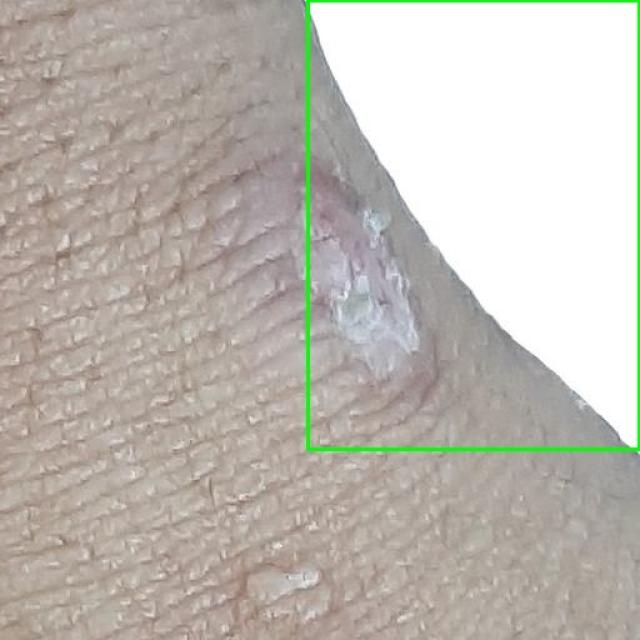Contact Dermatitis: (308, 0, 639, 449)
